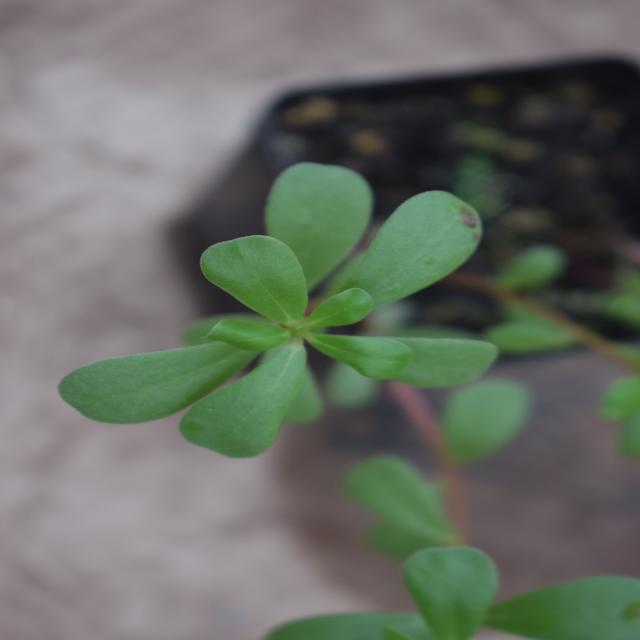purslane: (164, 129, 493, 588)
